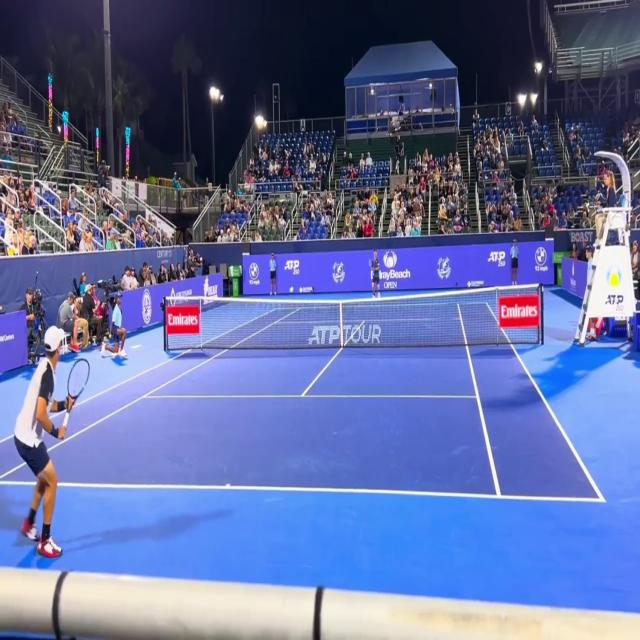tennisBall: (289, 283, 295, 296)
